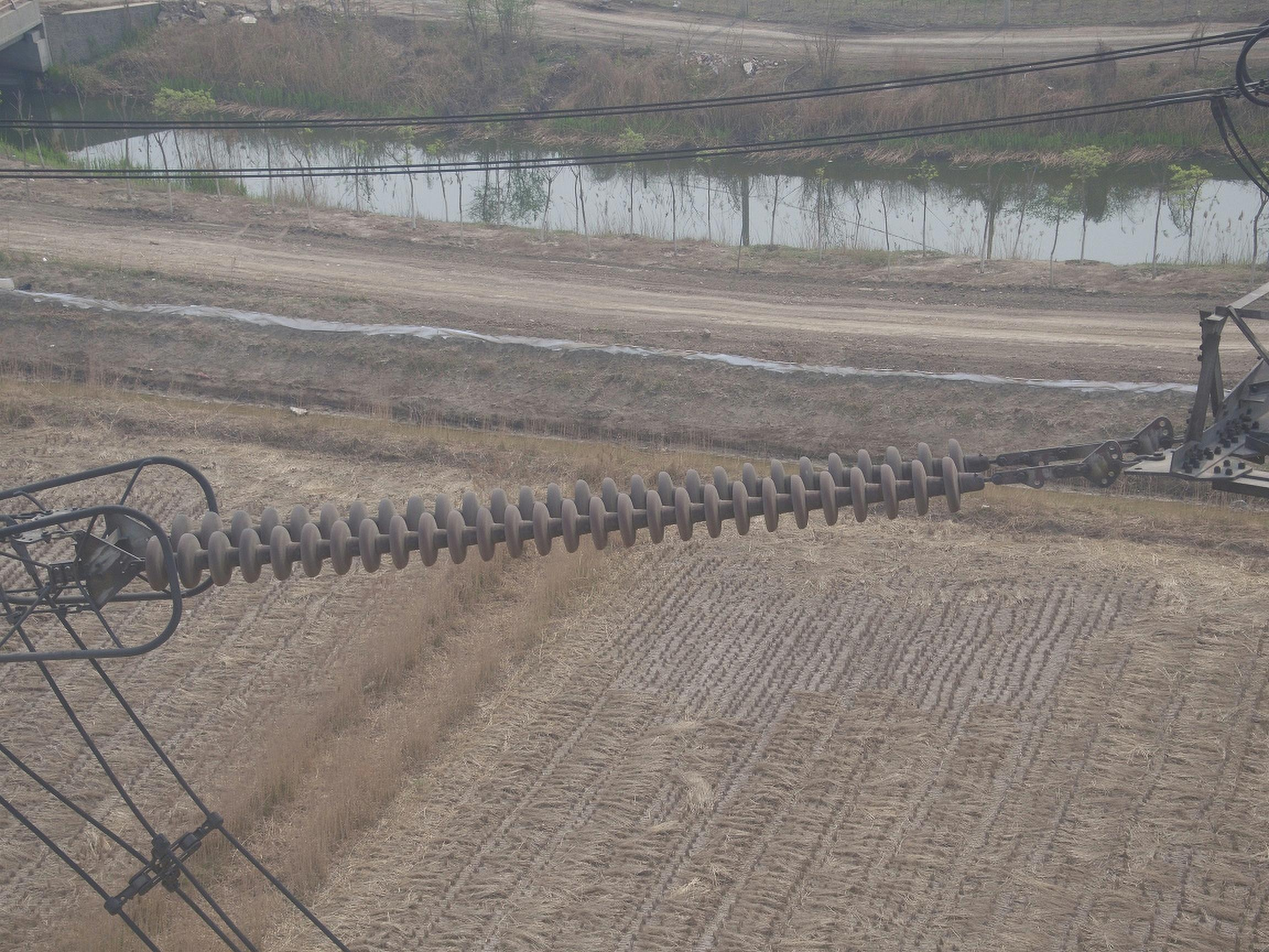insulator: (139, 433, 968, 598)
